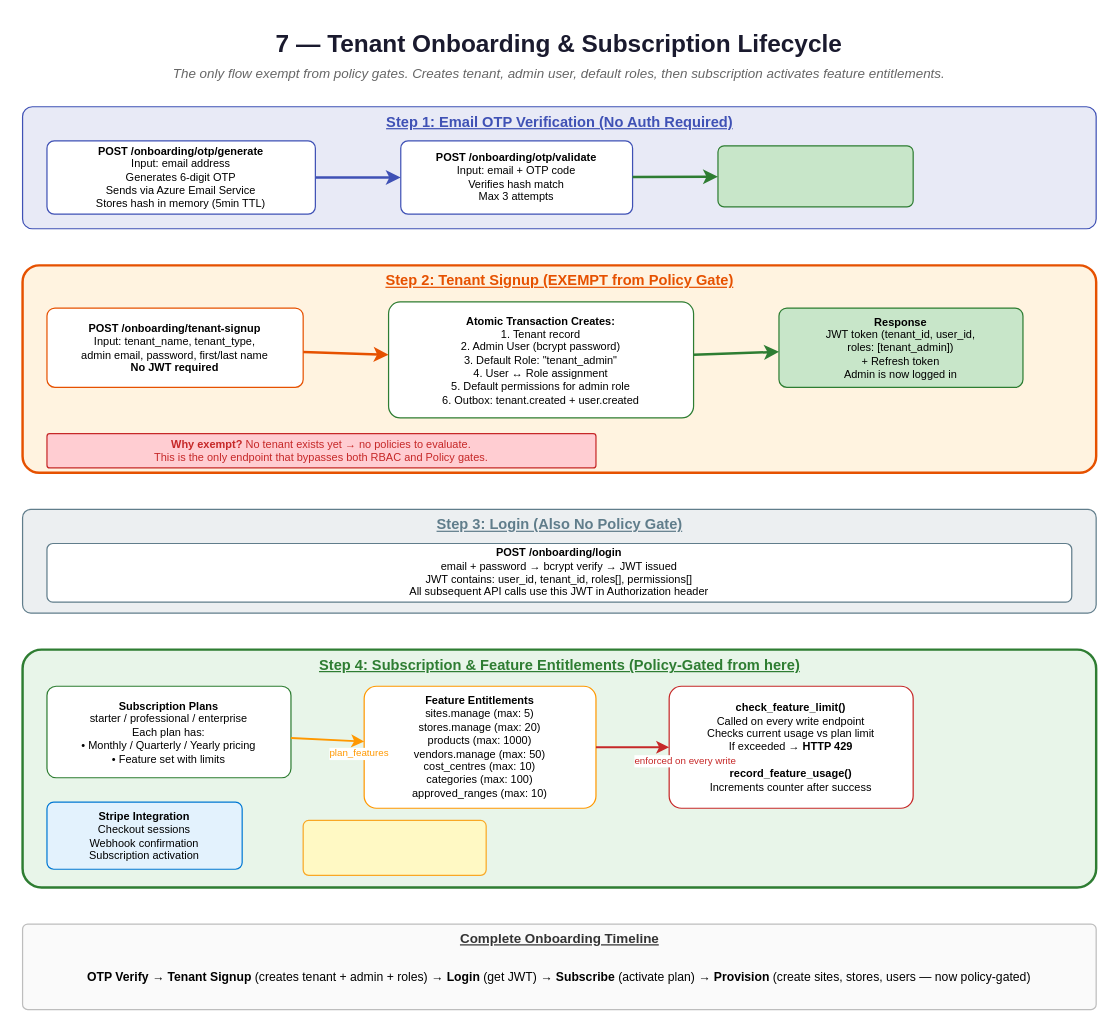
Some shapes in this 1118 by 1031 pixel diagram are drawn without their labels. The shapes that lost their labels are listed below. From the top down, each one's box as (x1, y1, x2, y2) in pixels, then its label:
(717, 145, 913, 207): OTP Verified Email is trusted Proceed to signup
(302, 819, 486, 875): Trial Period 7-day free trial Full feature access is_trial = true
